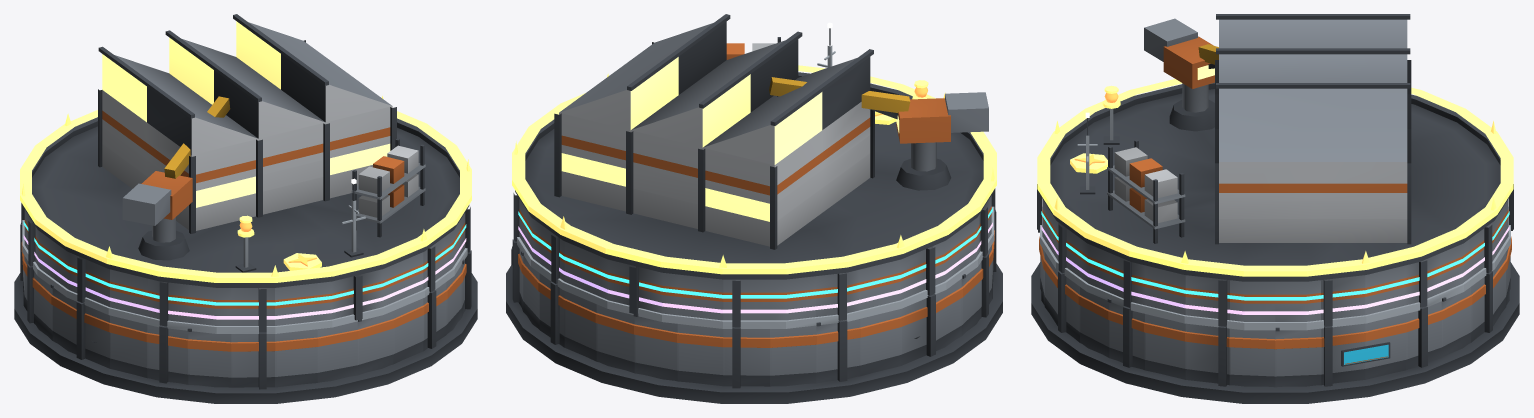
The model's file is workshop.glb.
The picture shows the model from 3 angles, left to right: view 1: azimuth 30°, elevation 25°; view 2: azimuth 150°, elevation 25°; view 3: azimuth 270°, elevation 25°; orthographic projection. The views are drawn at different scales.
Parts seen in each view (by area): view 1: Roof, Base, Wall_21, Wall_20, Wall_22, Wall_19, Wall_23, Wall_18, Wall_24, Wall_17, Wall_25, Upper_21 (+35 smaller); view 2: Roof, Base, Wall_10, Wall_11, Wall_09, Wall_12, Wall_08, Wall_13, Wall_07, Wall_14, Wall_06, Upper_10 (+38 smaller); view 3: Roof, Base, Wall_00, Wall_31, Wall_30, Wall_29, Wall_01, Wall_28, Wall_03, Wall_02, Wall_04, Wall_27 (+34 smaller).
Boxes of the visible parts, x1=… form: Roof: x1=22, y1=14, x2=469, y2=287; Base: x1=14, y1=273, x2=477, y2=403; Wall_21: x1=231, y1=332, x2=275, y2=389; Wall_20: x1=187, y1=328, x2=231, y2=387; Wall_22: x1=275, y1=329, x2=318, y2=387; Wall_19: x1=146, y1=324, x2=188, y2=384; Wall_23: x1=317, y1=321, x2=358, y2=382; Wall_18: x1=109, y1=315, x2=147, y2=377; Wall_24: x1=357, y1=311, x2=394, y2=375; Wall_17: x1=76, y1=301, x2=109, y2=368; Wall_25: x1=393, y1=298, x2=424, y2=364; Upper_21: x1=231, y1=288, x2=274, y2=332; Roof: x1=515, y1=14, x2=993, y2=279; Base: x1=506, y1=263, x2=1002, y2=403; Wall_10: x1=723, y1=327, x2=770, y2=388; Wall_11: x1=770, y1=325, x2=816, y2=386; Wall_09: x1=677, y1=324, x2=723, y2=386; Wall_12: x1=816, y1=319, x2=860, y2=383; Wall_08: x1=633, y1=313, x2=677, y2=381; Wall_13: x1=860, y1=309, x2=900, y2=376; Wall_07: x1=595, y1=304, x2=634, y2=373; Wall_14: x1=900, y1=294, x2=935, y2=365; Wall_06: x1=563, y1=291, x2=596, y2=361; Upper_10: x1=723, y1=279, x2=769, y2=327; Roof: x1=1040, y1=14, x2=1510, y2=281; Base: x1=1031, y1=262, x2=1519, y2=403; Wall_00: x1=1275, y1=327, x2=1321, y2=387; Wall_31: x1=1229, y1=328, x2=1275, y2=387; Wall_30: x1=1185, y1=323, x2=1229, y2=386; Wall_29: x1=1144, y1=314, x2=1185, y2=379; Wall_01: x1=1321, y1=323, x2=1365, y2=386; Wall_28: x1=1107, y1=298, x2=1144, y2=370; Wall_03: x1=1406, y1=301, x2=1442, y2=370; Wall_02: x1=1365, y1=314, x2=1406, y2=379; Wall_04: x1=1441, y1=287, x2=1472, y2=357; Wall_27: x1=1078, y1=287, x2=1109, y2=357.
Bounding box in the file's own units: 9.72 × 5.36 × 9.72.
